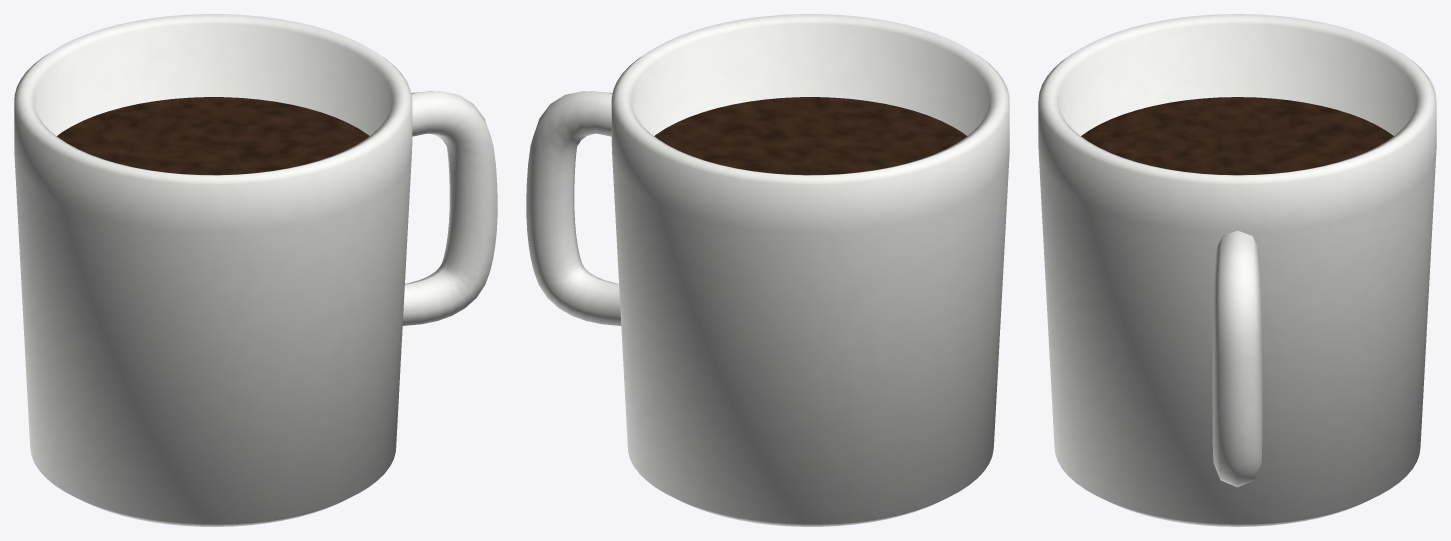
The model's file is mug_white.glb.
The picture shows the model from 3 angles, left to right: view 1: azimuth 30°, elevation 25°; view 2: azimuth 150°, elevation 25°; view 3: azimuth 270°, elevation 25°; orthographic projection.
Visible parts, largest first — view 1: mug_white; view 2: mug_white; view 3: mug_white.
Boxes of the visible parts, x1,y1,x2,y2 form: mug_white: (14,14,497,526); mug_white: (526,14,1009,526); mug_white: (1038,14,1436,526).
Size of the model in its own units: 7.91 by 6 by 6.
Materials: 1 (1 with a texture image).
